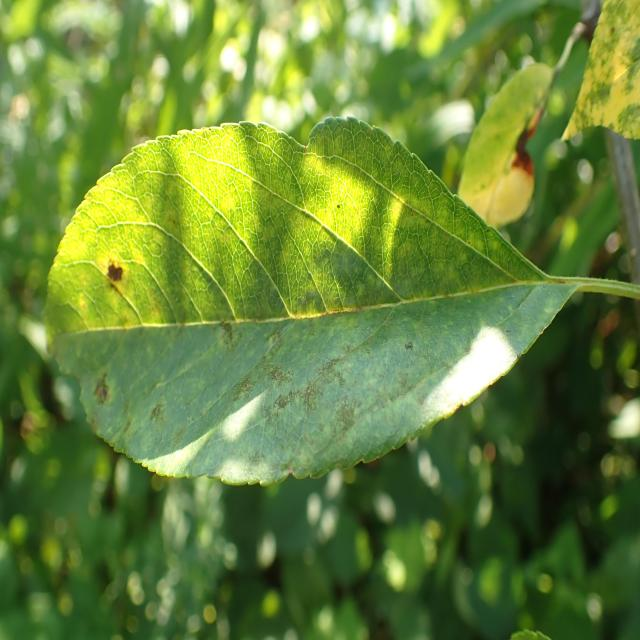scab: (40, 151, 563, 475)
